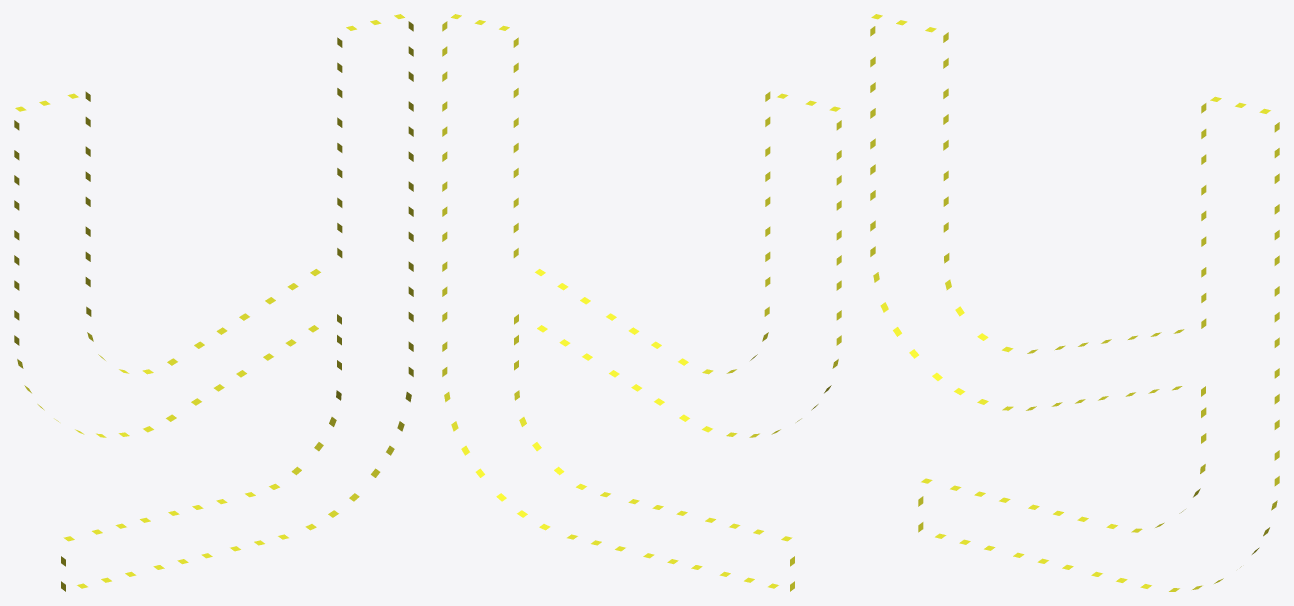
The model's file is led.glb.
3 renders of one model, left to right at view 1: azimuth 30°, elevation 25°; view 2: azimuth 150°, elevation 25°; view 3: azimuth 330°, elevation 25°, orthographic. The views are drawn at different scales.
Parts seen in each view (by area): view 1: led; view 2: led; view 3: led.
Boxes of the visible parts, left/top/right/bottom form: led: left=14, top=14, right=413, bottom=591; led: left=442, top=14, right=841, bottom=591; led: left=870, top=14, right=1279, bottom=591.
Size of the model in its own units: 40.29 by 48.01 by 0.8861.
